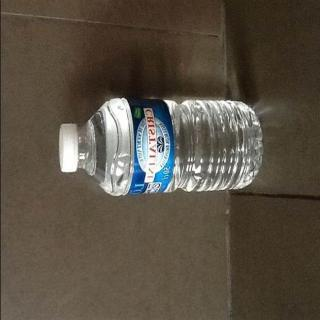Anorganik: (54, 94, 266, 202)
